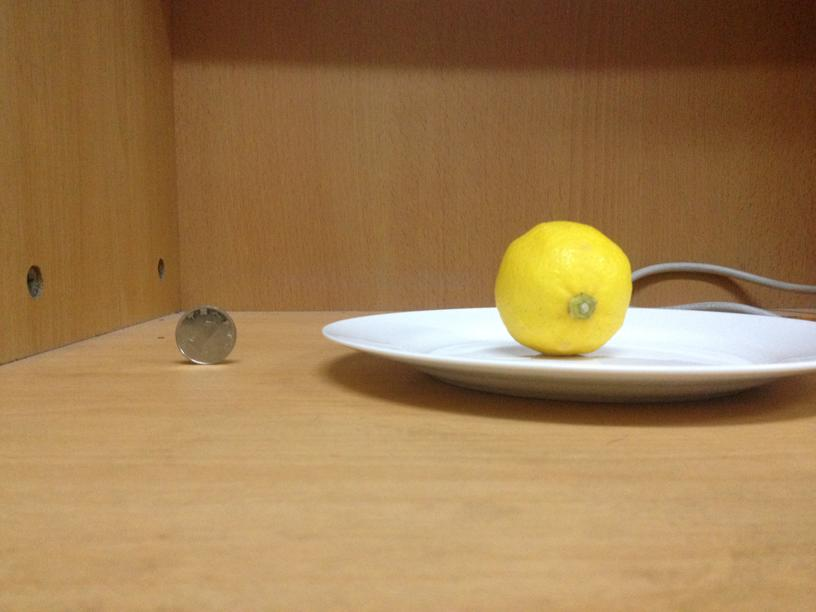coin: (175, 304, 238, 364)
lemon: (492, 220, 631, 355)
